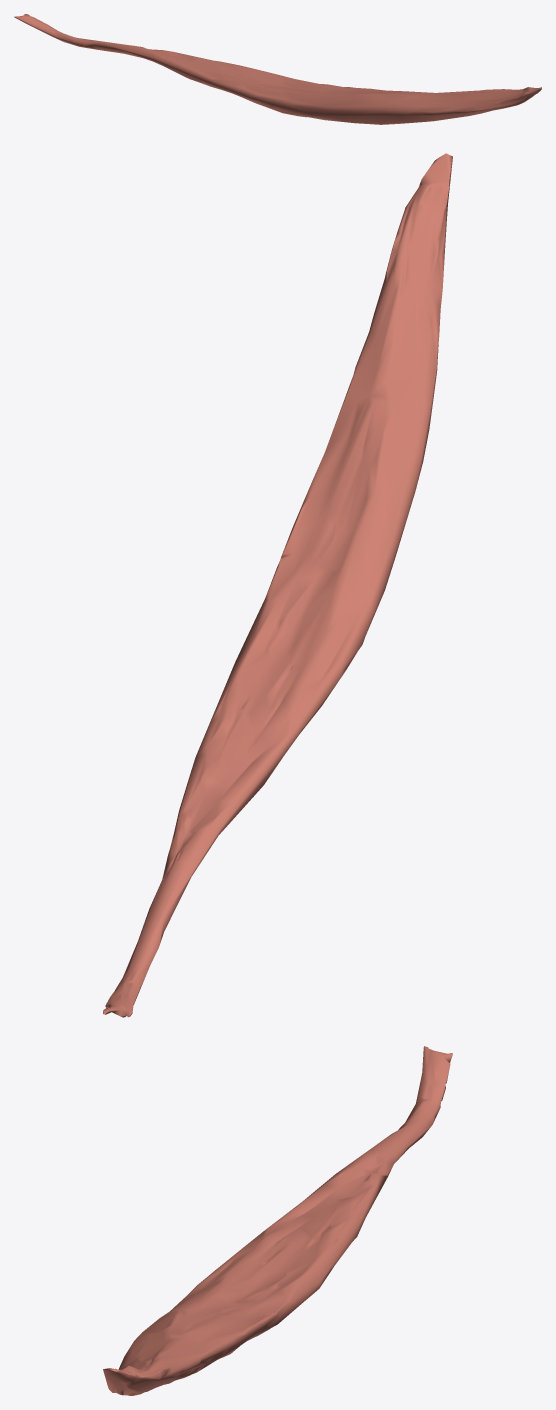
3 renders of one model, top to bottom at view 1: azimuth 30°, elevation 25°; view 2: azimuth 150°, elevation 25°; view 3: azimuth 330°, elevation 25°, orthographic. The views are drawn at different scales.
Visible parts, largest first — view 1: 右侧桡侧腕屈肌; view 2: 右侧桡侧腕屈肌; view 3: 右侧桡侧腕屈肌.
Boxes of the visible parts, x1,y1,x2,y2 form: 右侧桡侧腕屈肌: (14,14,541,124); 右侧桡侧腕屈肌: (103,153,452,1017); 右侧桡侧腕屈肌: (103,1046,452,1395).
Size of the model in its own units: 0.1335 by 0.0996 by 0.4211.
